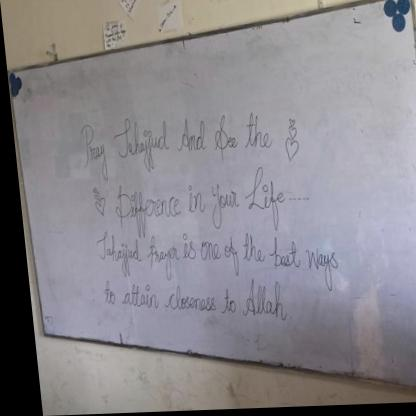Handwritten text: (68, 97, 273, 184), (105, 166, 285, 243), (86, 227, 336, 281), (79, 275, 289, 327)
Whiteboard: (6, 0, 416, 391)
